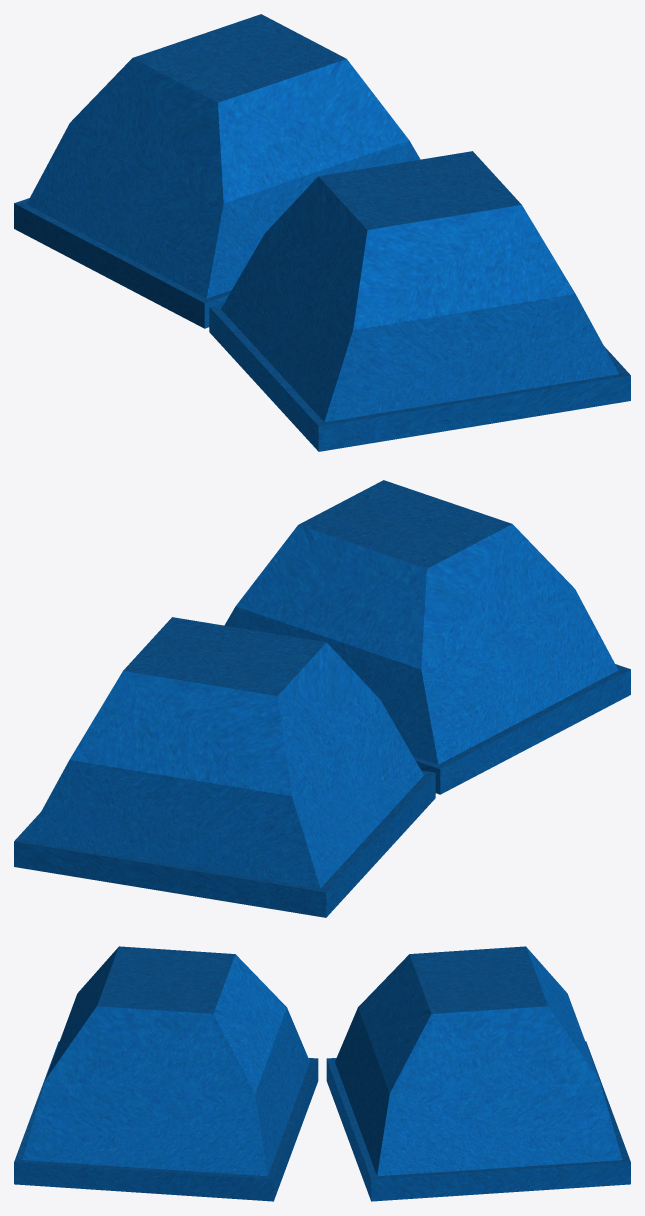
File: Shoes.fbx
The picture shows the model from 3 angles, top to bottom: view 1: azimuth 30°, elevation 25°; view 2: azimuth 150°, elevation 25°; view 3: azimuth 270°, elevation 25°; orthographic projection. The views are drawn at different scales.
Visible parts, largest first — view 1: Zapato_Izq; view 2: Zapato_Izq; view 3: Zapato_Izq.
Part boxes in pixels (bbox=[...]): Zapato_Izq: bbox=[14, 14, 630, 451]; Zapato_Izq: bbox=[14, 480, 630, 917]; Zapato_Izq: bbox=[14, 946, 630, 1201].
Bounding box in the file's own units: 94.18 × 48.43 × 178.
